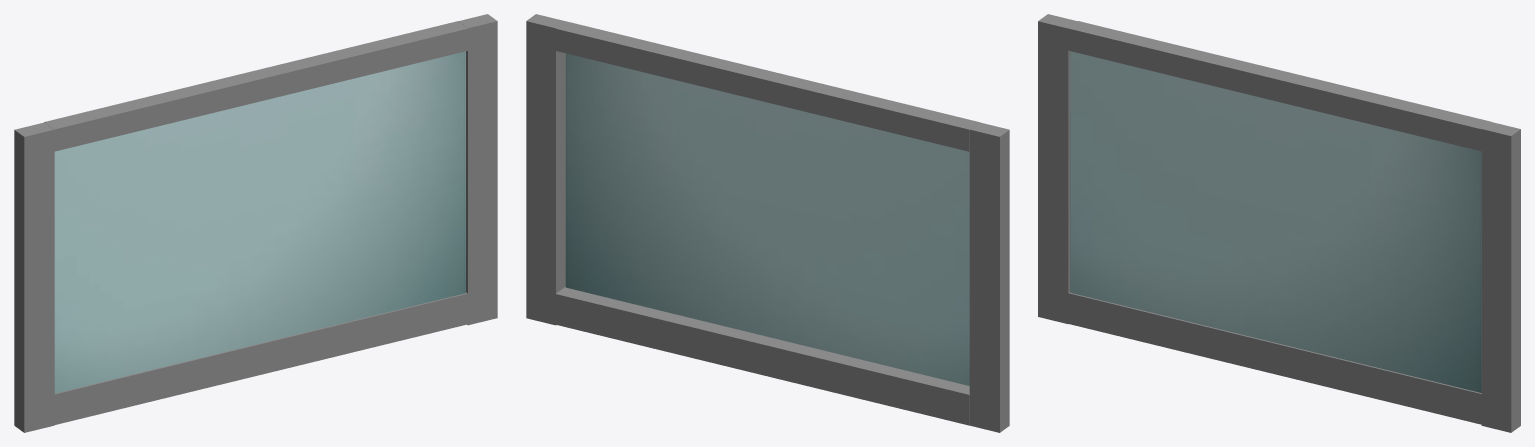
File: Game Object1(05-10).FBX
3 views of the same model, side by side, from view 1: azimuth 30°, elevation 25°; view 2: azimuth 150°, elevation 25°; view 3: azimuth 330°, elevation 25° (orthographic).
Parts seen in each view (by area): view 1: Box004; view 2: Box004; view 3: Box004.
Boxes of the visible parts, left/top/right/bottom form: Box004: left=14, top=14, right=497, bottom=432; Box004: left=526, top=14, right=1009, bottom=432; Box004: left=1038, top=14, right=1520, bottom=432.
Bounding box in the file's own units: 72.01 × 43.18 × 2.7.
